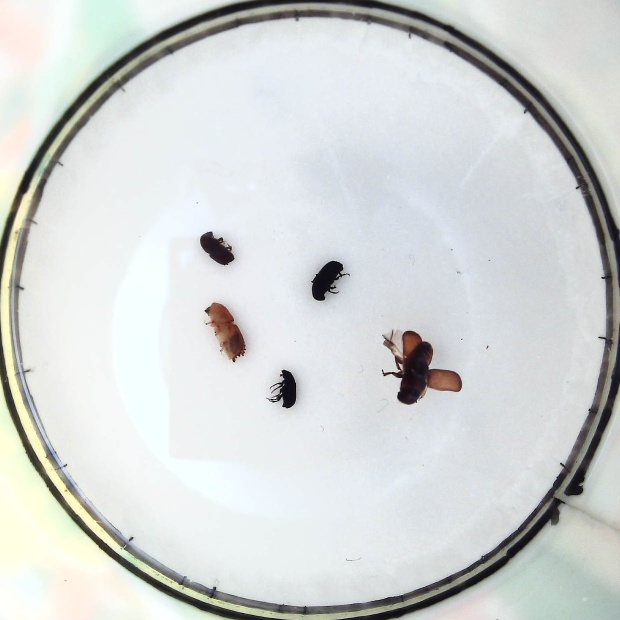armandi: (308, 261, 348, 300)
boerner: (204, 302, 246, 360)
coleoptera: (269, 369, 299, 409)
leconte: (381, 328, 463, 404)
linnaeus: (198, 230, 234, 263)
